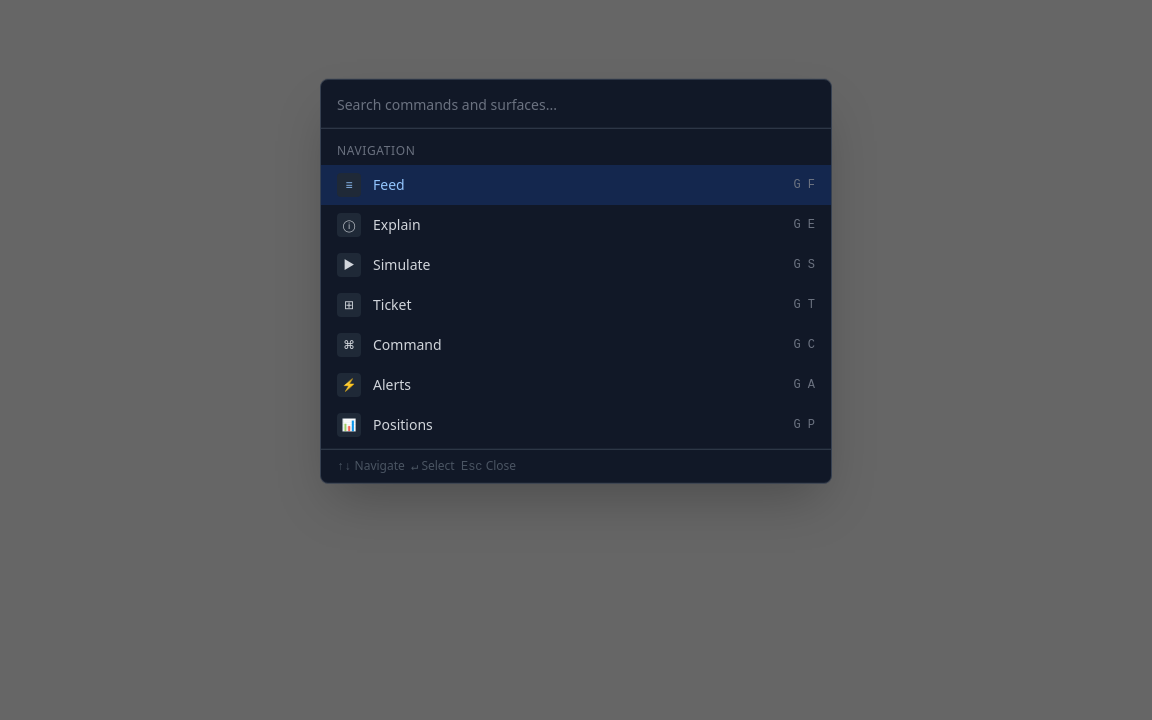
Scenario: CommandPalette › shows 'No commands found' for unmatched queries
Type "zzz_nonexistent_zzz" into the field labelled "Search commands" at (576, 105), box [337,95,815,115]
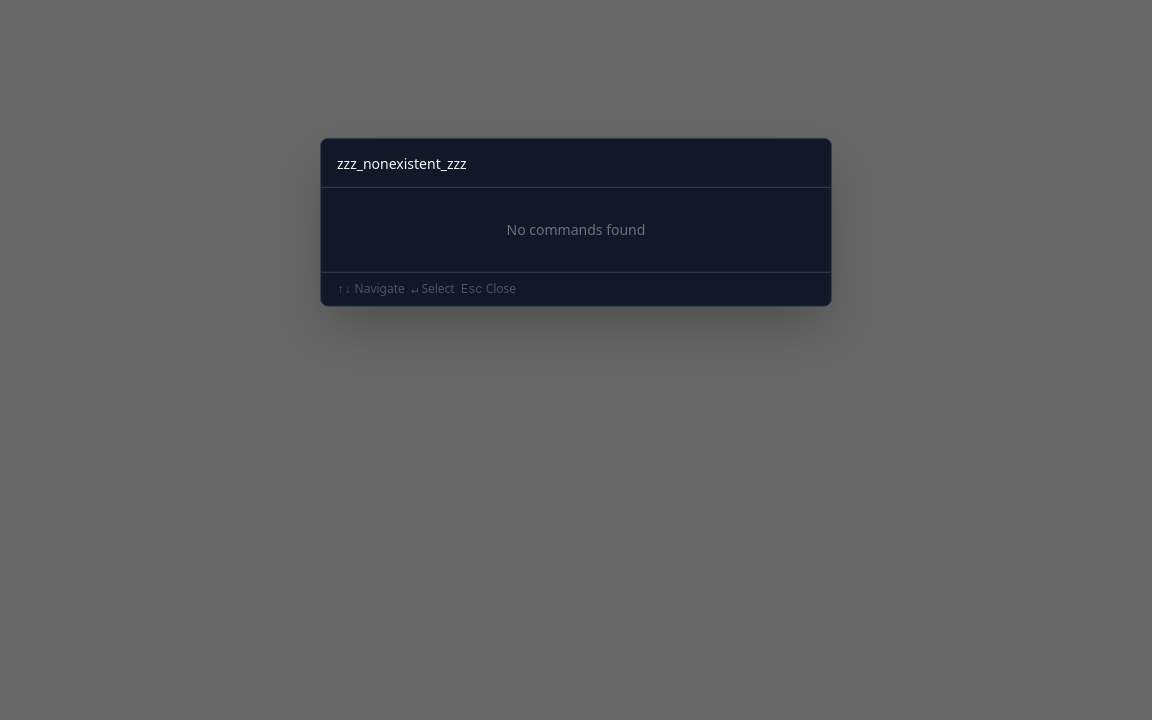
Expected: the text "No commands found" is shown, [507,220,645,239]
